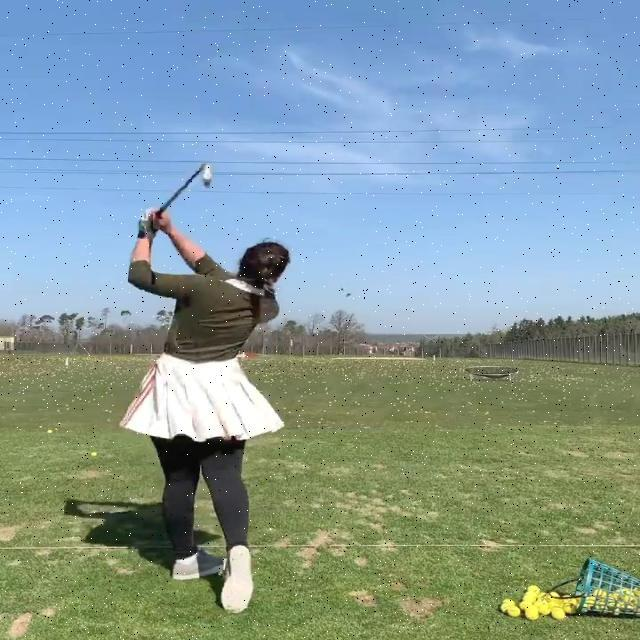ClubHandle: (156, 162, 217, 213)
ClubHead: (202, 162, 214, 186)
GolfBall: (526, 610, 539, 619), (522, 594, 532, 604), (553, 609, 564, 618), (540, 607, 553, 614), (509, 607, 519, 616), (565, 604, 575, 613), (526, 604, 537, 612), (504, 597, 514, 605), (528, 586, 541, 592), (500, 604, 510, 611), (550, 592, 559, 599), (520, 602, 530, 608), (564, 596, 574, 602), (550, 604, 560, 608), (537, 601, 544, 606), (542, 596, 549, 601)
